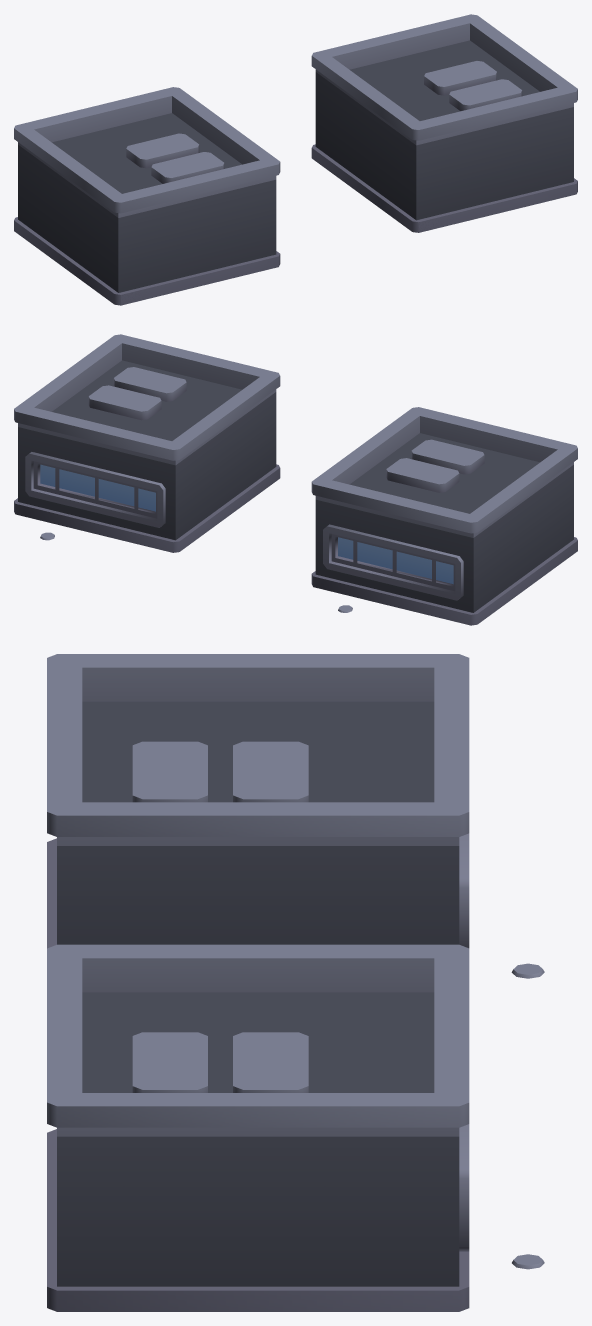
The model's file is industrial-g.glb.
3 renders of one model, top to bottom at view 1: azimuth 30°, elevation 25°; view 2: azimuth 150°, elevation 25°; view 3: azimuth 270°, elevation 25°, orthographic. The views are drawn at different scales.
Visible parts, largest first — view 1: building-g; view 2: building-g; view 3: building-g.
Boxes of the visible parts, left/top/right/bottom form: building-g: left=14, top=14, right=577, bottom=305; building-g: left=14, top=334, right=577, bottom=625; building-g: left=47, top=654, right=544, bottom=1311.
Size of the model in its own units: 26.54 by 5.65 by 12.34.
1 material, 1 textured.
